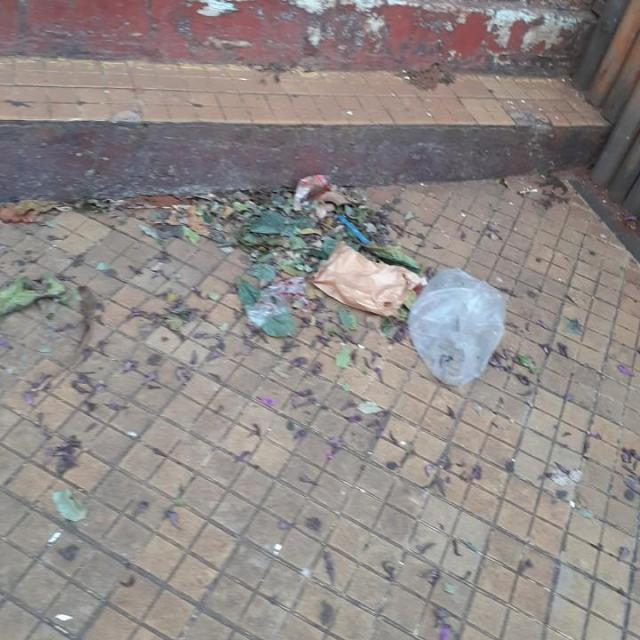litter: (408, 268, 507, 385), (307, 244, 420, 316), (334, 211, 368, 245)
